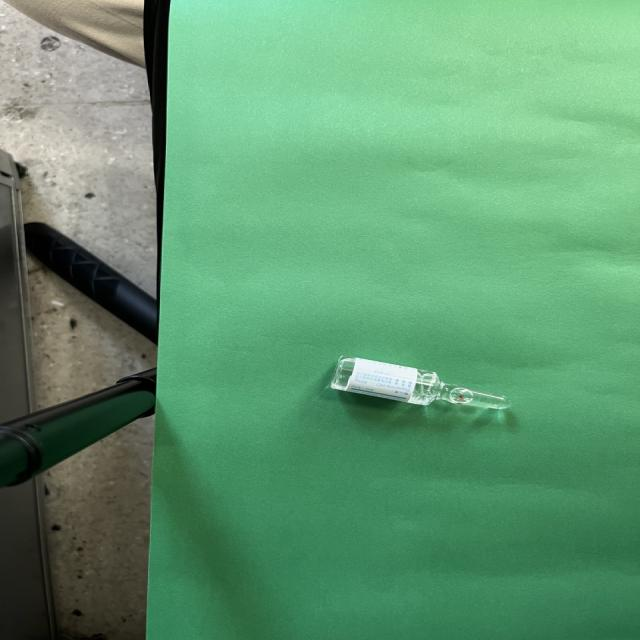Ampoules: (331, 357, 509, 410)
